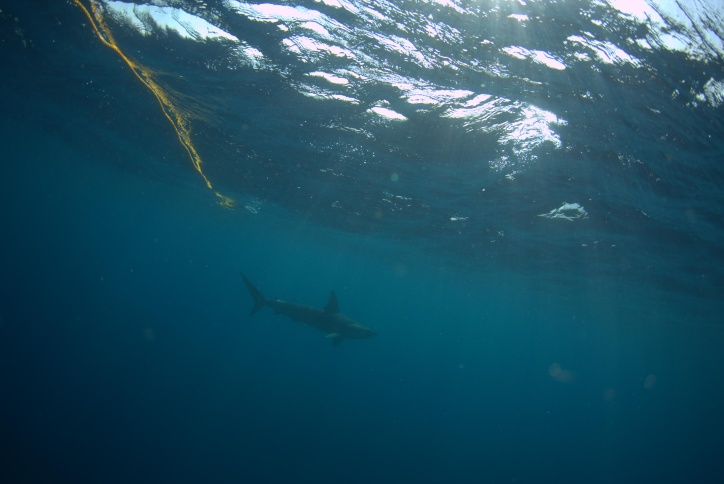Hammer: (223, 253, 405, 369)
